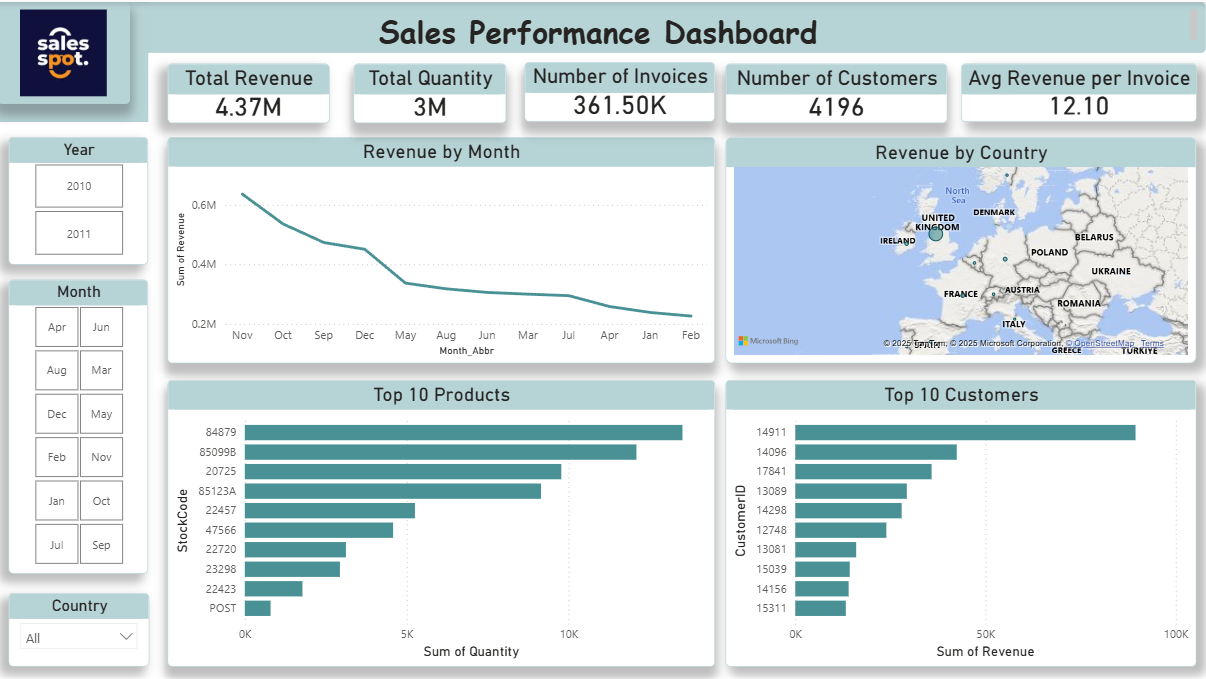

The dashboard page shown, as its layout file describes it:
{"tool":"powerbi","page":{"name":"Sales Performance Dashboard","canvas":[1280,720],"ordinal":0},"visuals":[{"type":"lineChart","title":"Revenue by Month","fields":{"Category":["Clean Data.Month_Abbr"],"Y":["Sum(Clean Data.Revenue)"]},"box":[179.7,143.2,580.6,240.2],"z":0},{"type":"barChart","title":"Top 10 Products","fields":{"Category":["Clean Data.StockCode"],"Y":["Sum(Clean Data.Quantity)"]},"box":[179.7,400.8,580.6,303.8],"z":1000},{"type":"barChart","title":"Top 10 Customers","fields":{"Y":["Sum(Clean Data.Revenue)"],"Category":["Clean Data.CustomerID"]},"box":[771.4,400.8,499.5,303.8],"z":2000},{"type":"card","title":"Total Revenue","fields":{"Values":["Sum(Clean Data.Revenue)"]},"box":[179.7,65.2,171.8,63.6],"z":3000},{"type":"card","title":"Total Quantity","fields":{"Values":["Sum(Clean Data.Quantity)"]},"box":[377,65.2,162.2,63.6],"z":4000},{"type":"card","title":"Number of Customers","fields":{"Values":["Count(Clean Data.CustomerID)"]},"box":[771.4,65.2,235.4,63.6],"z":5000},{"type":"card","title":"Number of Invoices","fields":{"Values":["CountNonNull(Clean Data.InvoiceNo)"]},"box":[558.3,63.6,202,63.6],"z":6000},{"type":"card","title":"Avg Revenue per Invoice","fields":{"Values":["Clean Data.Avg Revenue per Invoice"]},"box":[1021.2,65.2,249.7,62],"z":7000},{"type":"textbox","box":[0,0,1280.4,54.1],"z":8000},{"type":"slicer","title":"Year","fields":{"Values":["Clean Data.Year"]},"box":[11.1,143.2,147.9,135.2],"z":9000},{"type":"slicer","title":"Month","fields":{"Values":["Clean Data.Month_Abbr"]},"box":[11.1,294.3,147.9,311.8],"z":10000},{"type":"slicer","title":"Country","fields":{"Values":["Clean Data.Country"]},"box":[11.1,626.7,149.5,77.9],"z":11000},{"type":"textbox","box":[0,0,159.1,127.2],"z":12000},{"type":"image","box":[0,0,140,108.2],"z":13000},{"type":"map","title":"Revenue by Country","fields":{"Category":["Clean Data.Country"],"Size":["Sum(Clean Data.Revenue)"]},"box":[771.4,143.2,499.5,240.2],"z":14000}]}

Visuals, with their boxes in screenshot pixels (x1, y1, x2, y2), scaled from the page's 1280x720 canvas onto the 1206x679 screenshot:
"Revenue by Month" lineChart: (x1=169, y1=135, x2=716, y2=362)
"Top 10 Products" barChart: (x1=169, y1=378, x2=716, y2=664)
"Top 10 Customers" barChart: (x1=727, y1=378, x2=1197, y2=664)
"Total Revenue" card: (x1=169, y1=61, x2=331, y2=121)
"Total Quantity" card: (x1=355, y1=61, x2=508, y2=121)
"Number of Customers" card: (x1=727, y1=61, x2=949, y2=121)
"Number of Invoices" card: (x1=526, y1=60, x2=716, y2=120)
"Avg Revenue per Invoice" card: (x1=962, y1=61, x2=1197, y2=120)
textbox: (x1=0, y1=0, x2=1205, y2=51)
"Year" slicer: (x1=10, y1=135, x2=150, y2=263)
"Month" slicer: (x1=10, y1=278, x2=150, y2=572)
"Country" slicer: (x1=10, y1=591, x2=151, y2=664)
textbox: (x1=0, y1=0, x2=150, y2=120)
image: (x1=0, y1=0, x2=132, y2=102)
"Revenue by Country" map: (x1=727, y1=135, x2=1197, y2=362)
